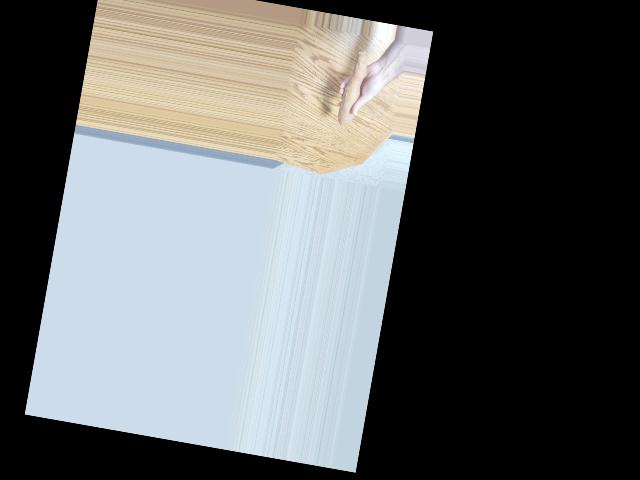sweet_potato: (333, 45, 371, 129)
